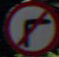Don't turn right: (2, 5, 51, 46)
